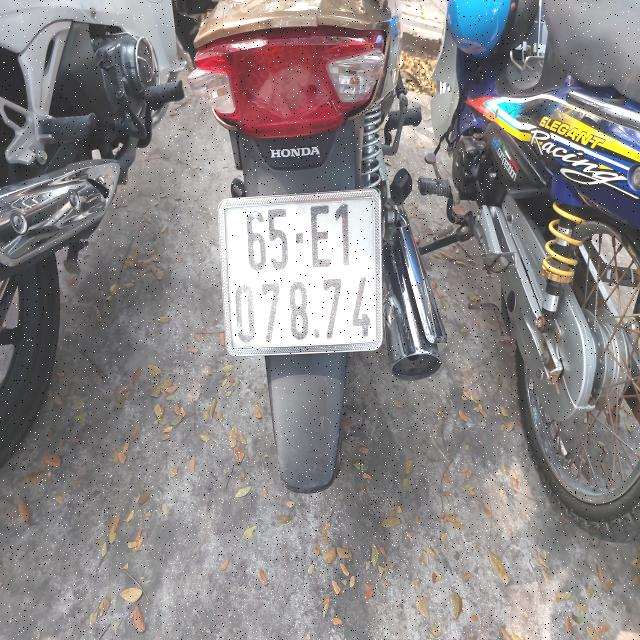0: (232, 284, 256, 343)
1: (335, 201, 353, 268)
4: (352, 277, 372, 337)
5: (268, 208, 290, 270)
6: (245, 208, 268, 272)
7: (260, 279, 280, 341), (323, 276, 342, 341)
8: (288, 281, 311, 337)
E: (309, 204, 333, 268)
